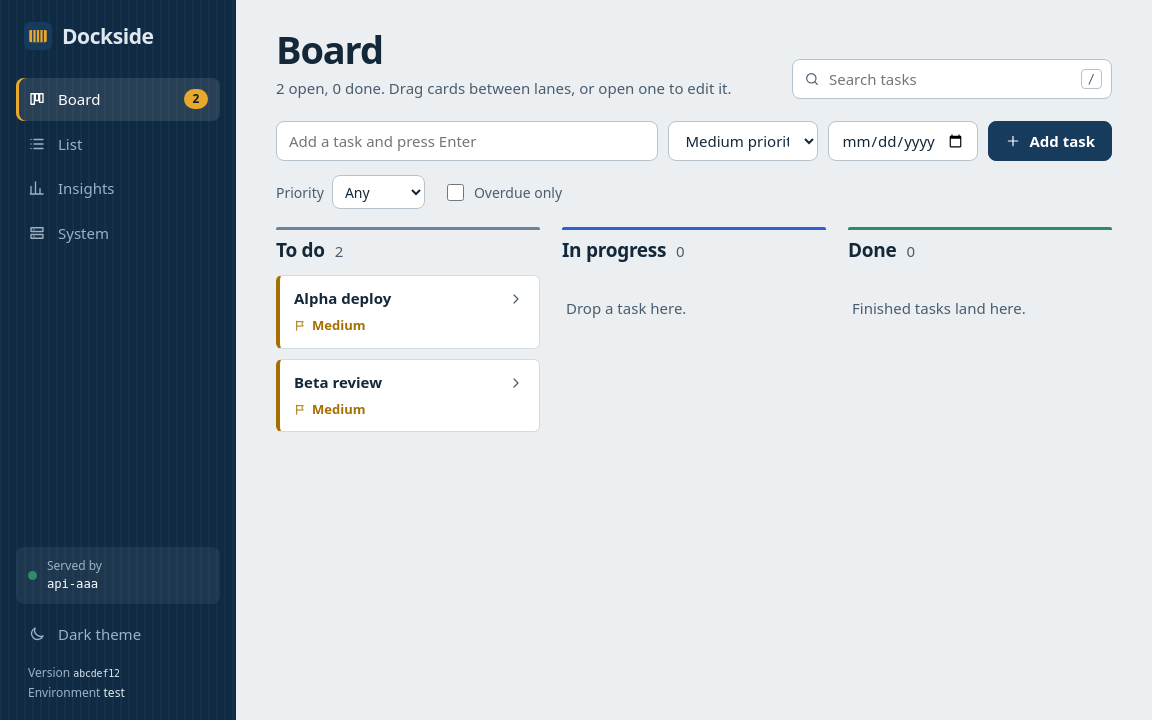
board › filters by search text
Expected: the button "Alpha deploy" is shown, [294,288,495,308]
Step 1. Type "beta" into the search field labelled "Search tasks" → (952, 79), box [792,59,1112,99]
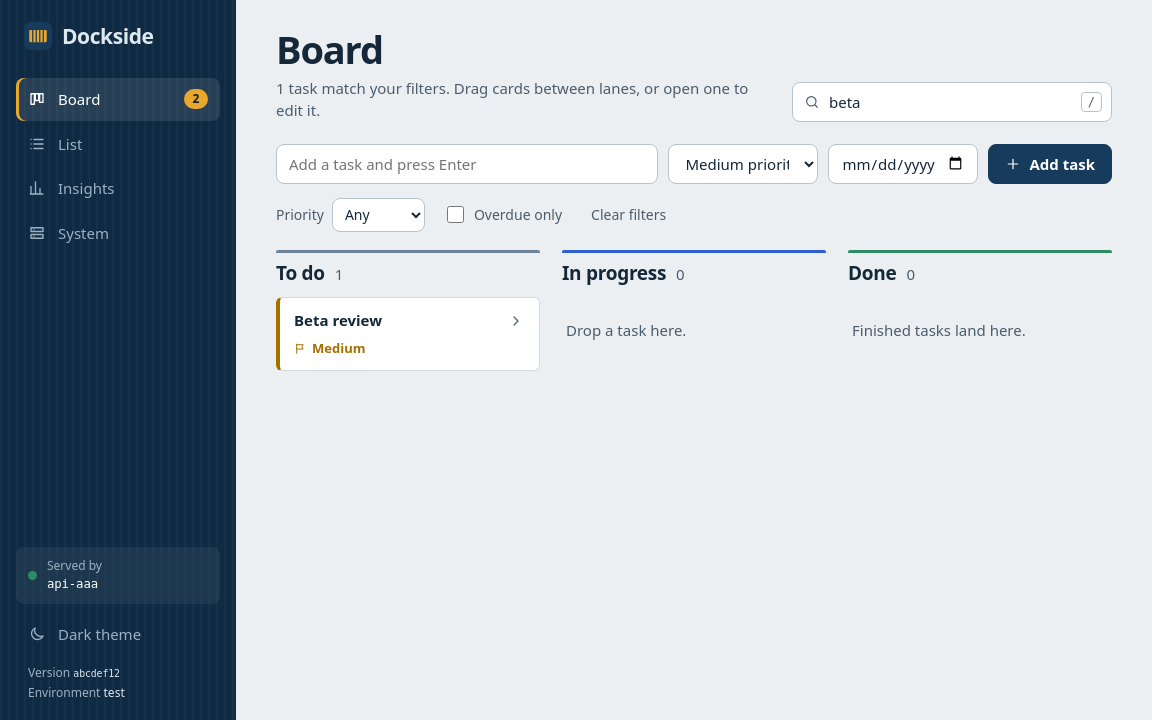
Expected: the button "Beta review" is shown, [294,310,495,331]
Result: the button "Alpha deploy" is gone
Step 2. Click the button "Clear filters" → (629, 215), box [580,199,677,231]
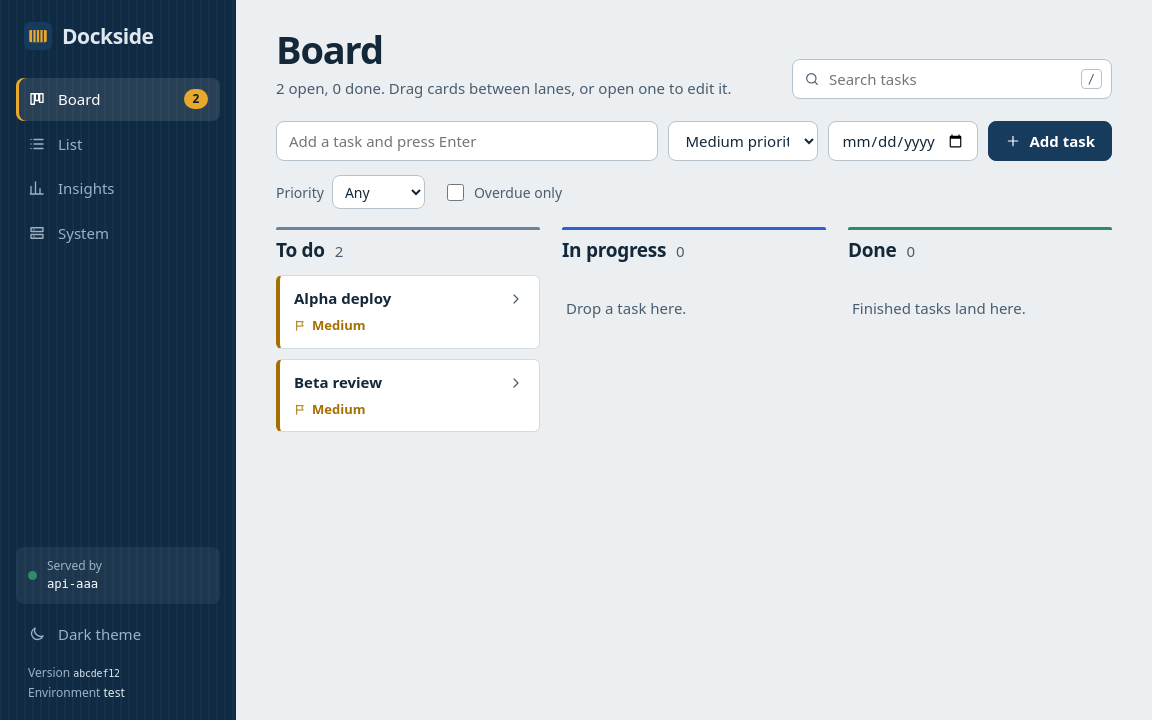
Result: the button "Alpha deploy" is shown at [294,288,495,308]
